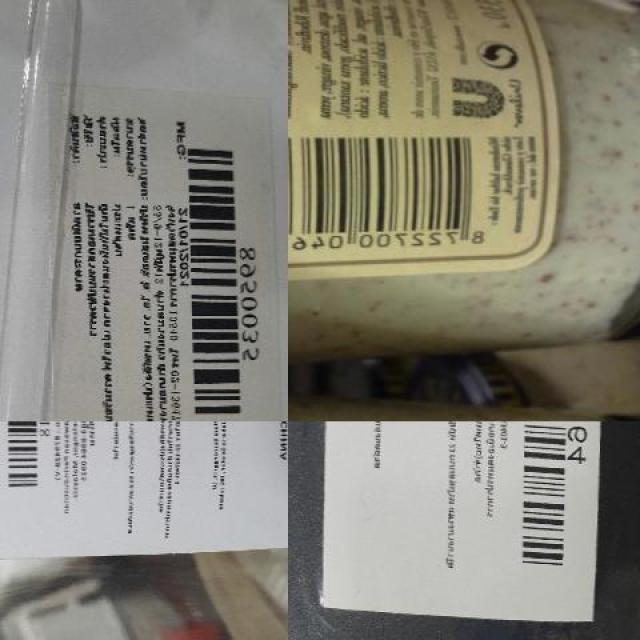Barcode: (288, 129, 488, 259), (178, 143, 258, 421), (500, 422, 592, 582), (0, 422, 48, 502)
